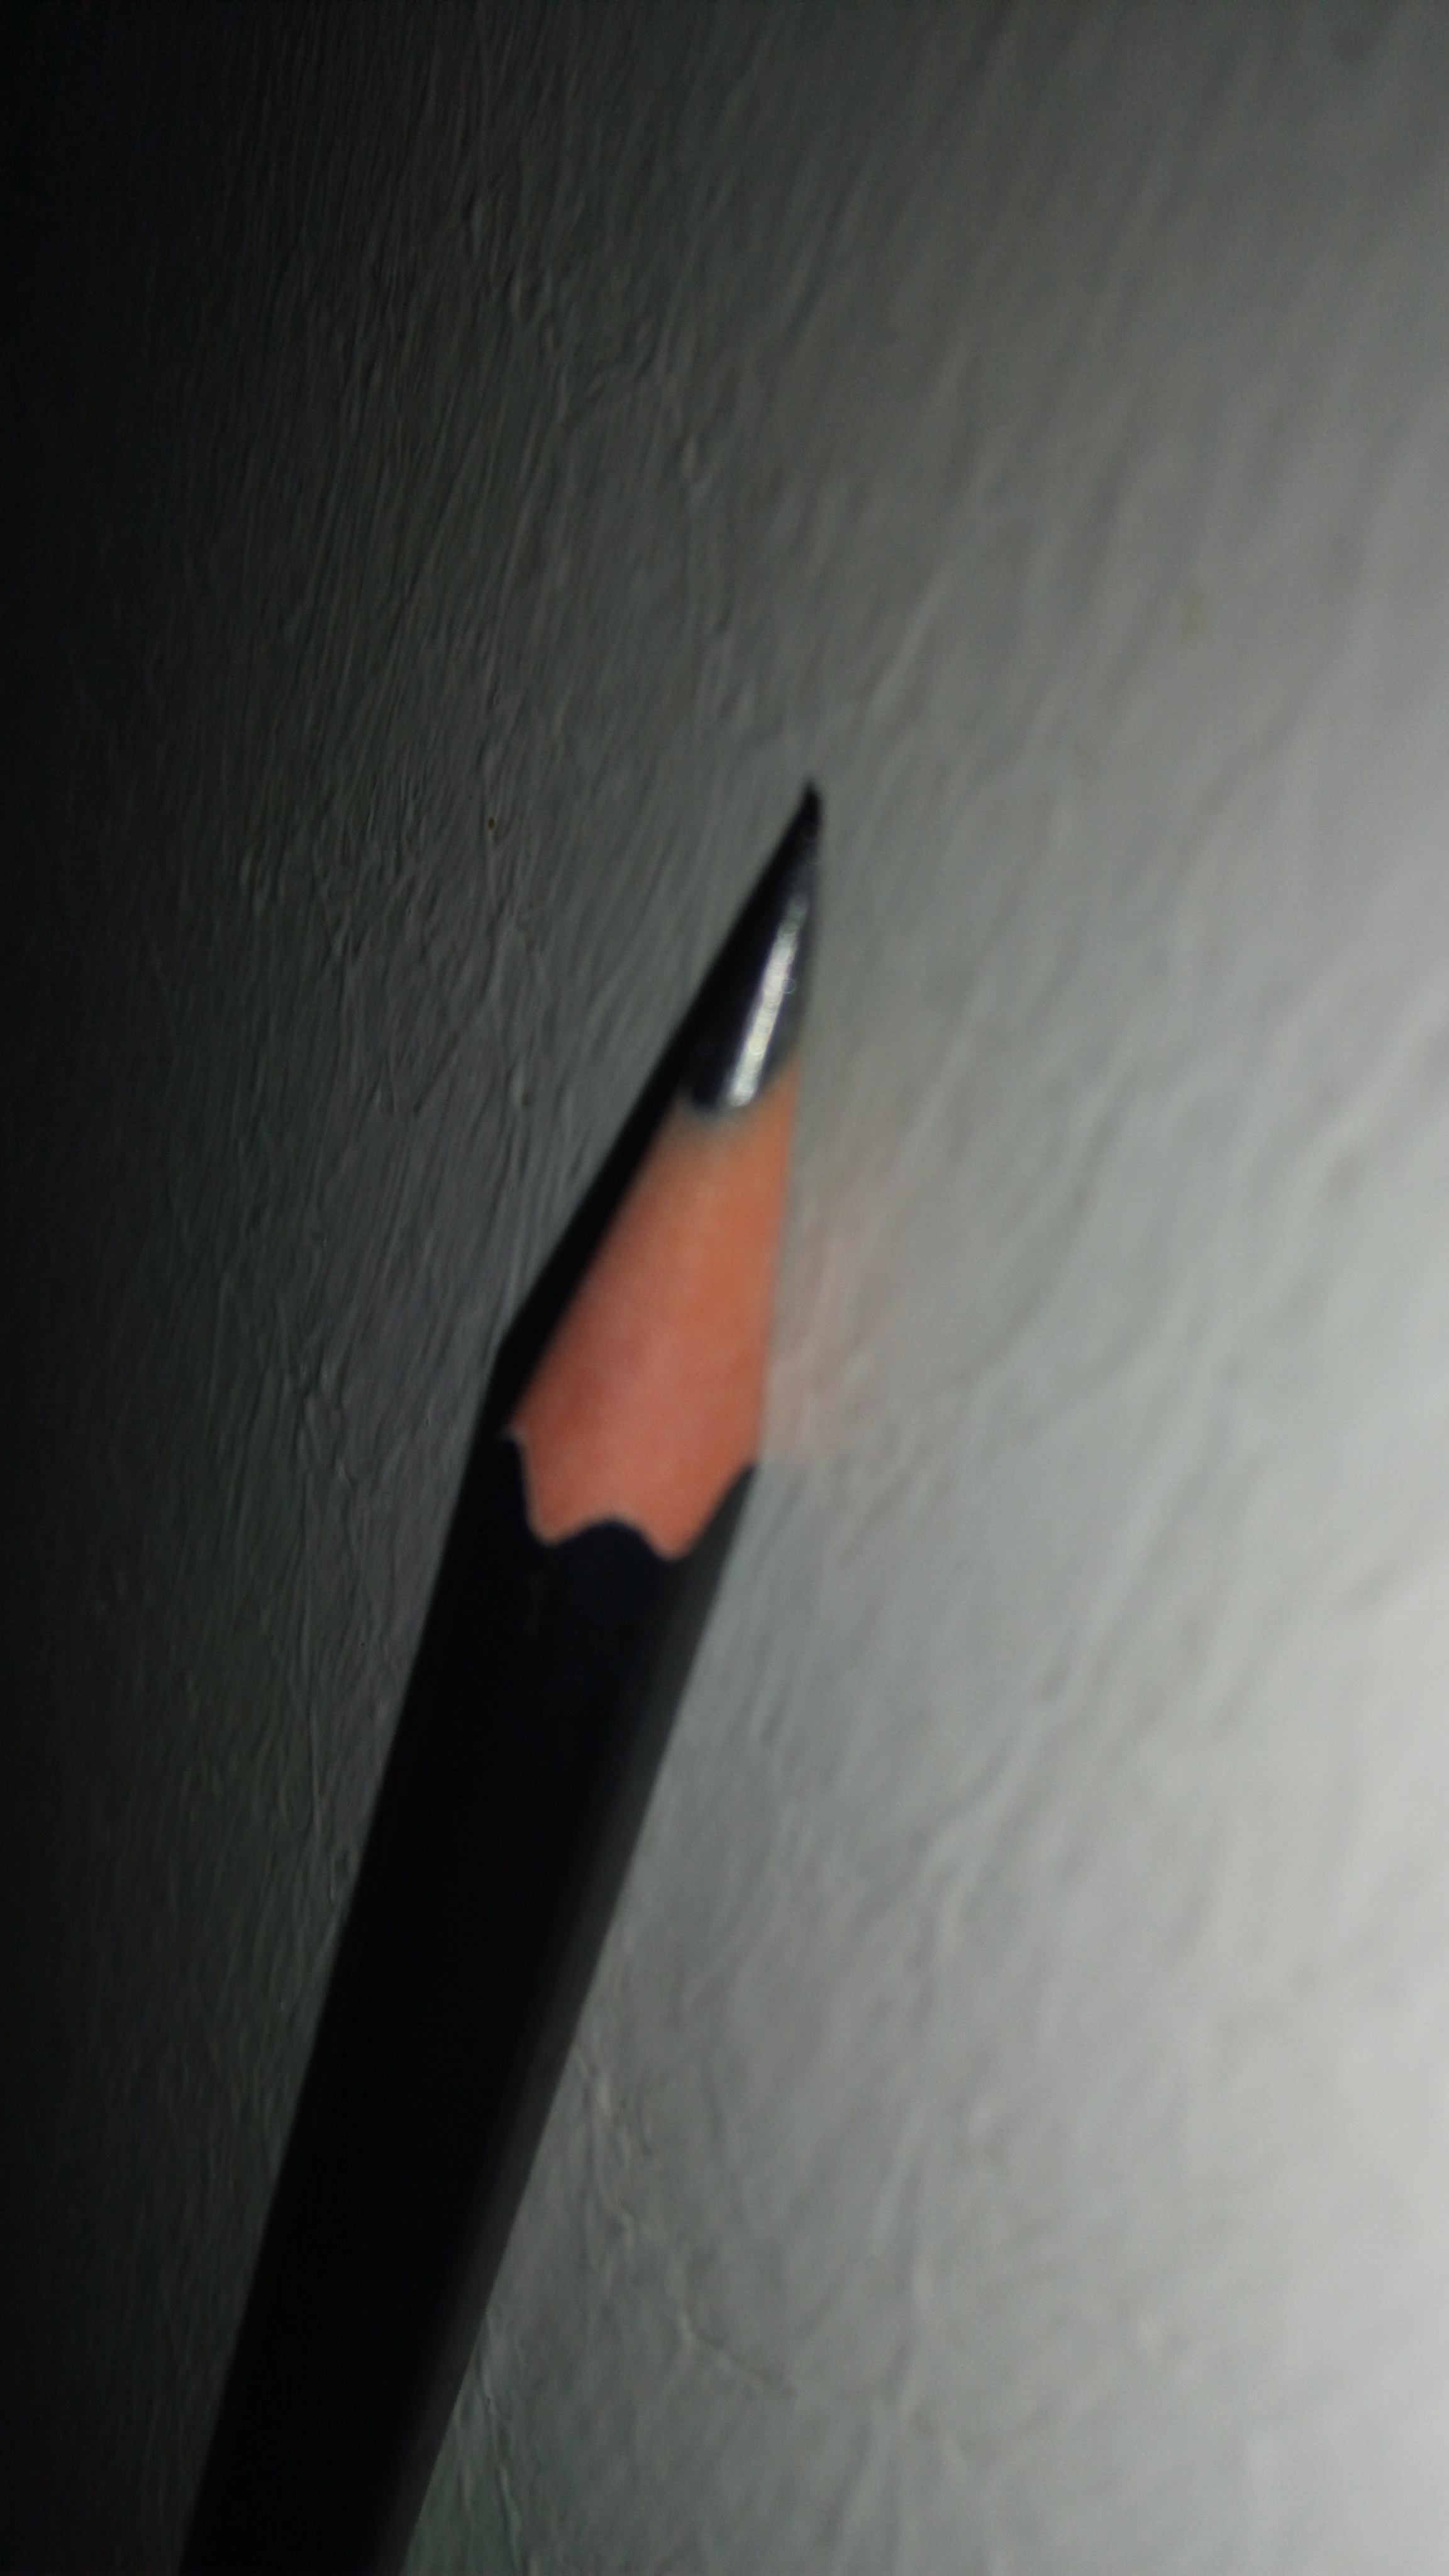pen_tip: (372, 692, 1106, 1720)
